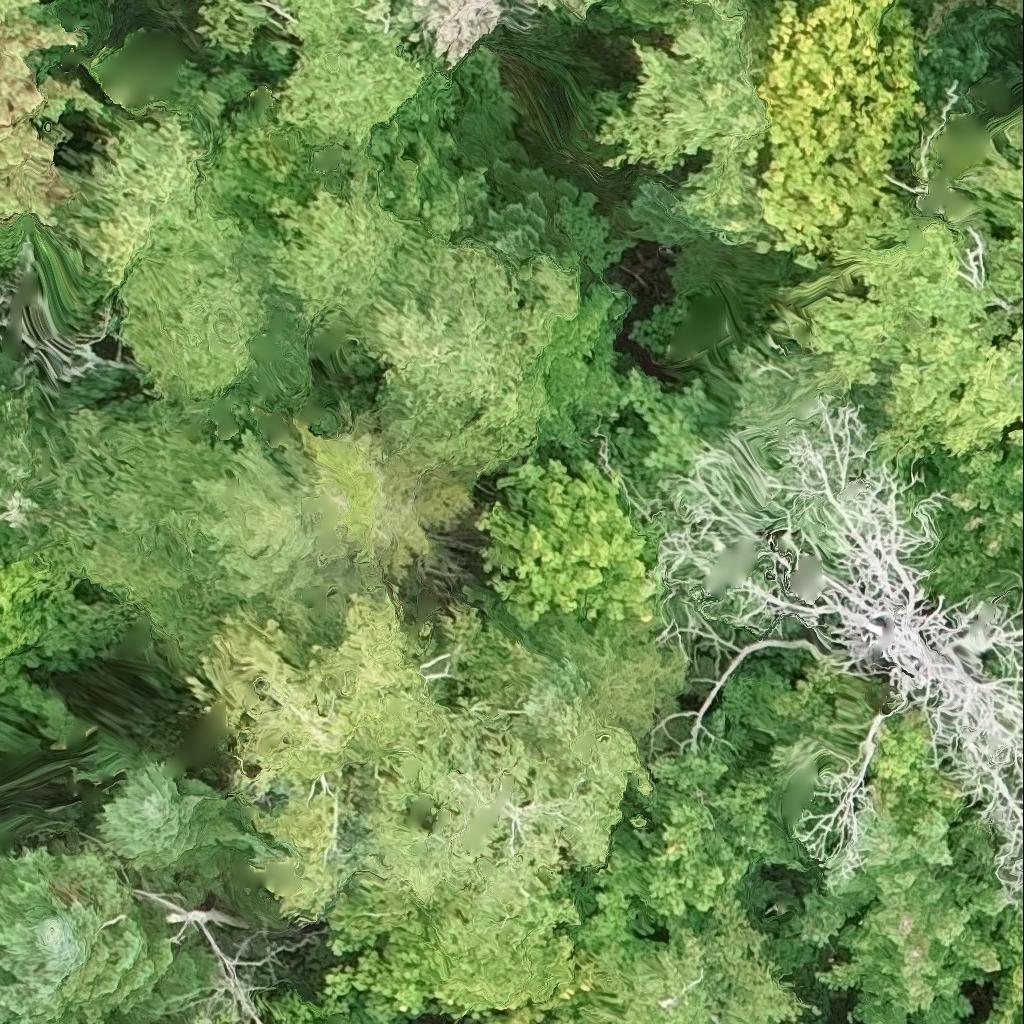crown: (649, 385, 1023, 898), (787, 218, 1023, 464), (807, 791, 1023, 1023), (959, 115, 1023, 314), (986, 929, 1023, 1023)
